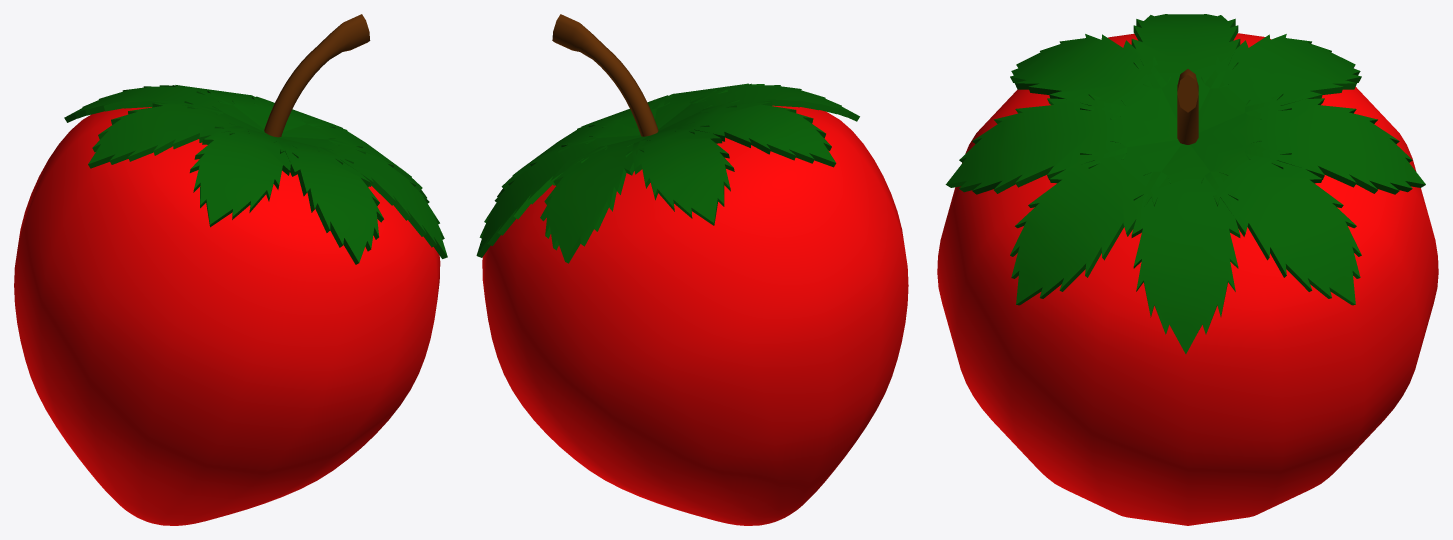
Rendered from Strawberry.FBX.
The picture shows the model from 3 angles, left to right: view 1: azimuth 30°, elevation 25°; view 2: azimuth 150°, elevation 25°; view 3: azimuth 270°, elevation 25°; orthographic projection. The views are drawn at different scales.
Visible parts, largest first — view 1: Berry, Leef01 (×2), Leef, Leef02, Shaft, Leef06, Leef03, Leef05, Leef04; view 2: Berry, Leef01 (×2), Leef06, Leef05, Leef04, Shaft, Leef, Leef03, Leef02; view 3: Berry, Leef01 (×2), Leef03, Leef02, Leef04, Leef05, Leef, Leef06, Shaft.
Boxes of the visible parts, box(x1,y1,x2,y2) form: Berry: box(14, 107, 440, 525); Leef01 (×2): box(88, 101, 383, 264); Leef: box(189, 123, 298, 227); Leef02: box(279, 136, 447, 258); Shaft: box(264, 14, 370, 137); Leef06: box(64, 85, 264, 131); Leef03: box(281, 119, 426, 198); Leef05: box(159, 85, 271, 128); Leef04: box(252, 96, 342, 131); Berry: box(482, 105, 908, 525); Leef01 (×2): box(650, 83, 836, 167); Leef06: box(625, 122, 734, 225); Leef05: box(540, 136, 650, 263); Leef04: box(476, 135, 642, 257); Shaft: box(552, 14, 658, 136); Leef: box(658, 83, 859, 131); Leef03: box(497, 117, 640, 197); Leef02: box(581, 95, 672, 129); Berry: box(937, 33, 1438, 525); Leef01 (×2): box(945, 14, 1240, 194); Leef03: box(1131, 144, 1240, 353); Leef02: box(1010, 140, 1181, 305); Leef04: box(1190, 140, 1361, 305); Leef05: box(1197, 94, 1425, 194); Leef: box(1010, 34, 1177, 134); Leef06: box(1198, 34, 1361, 132); Shaft: box(1177, 69, 1198, 144).
Size of the model in its own units: 71.29 by 81.67 by 69.56.
1 material, 1 textured.
